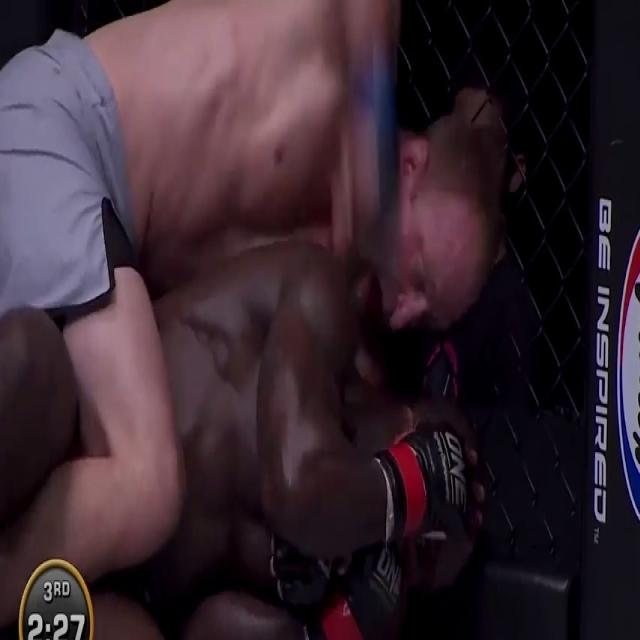fight: (6, 1, 524, 639)
